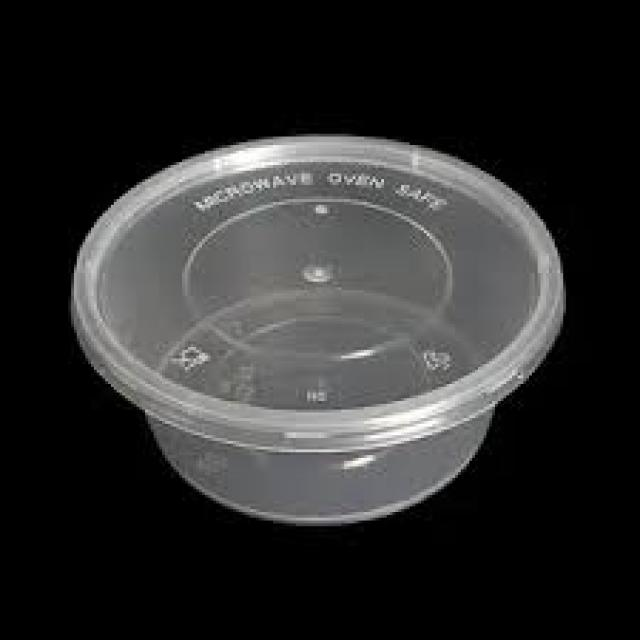disposable: (60, 105, 606, 532)
